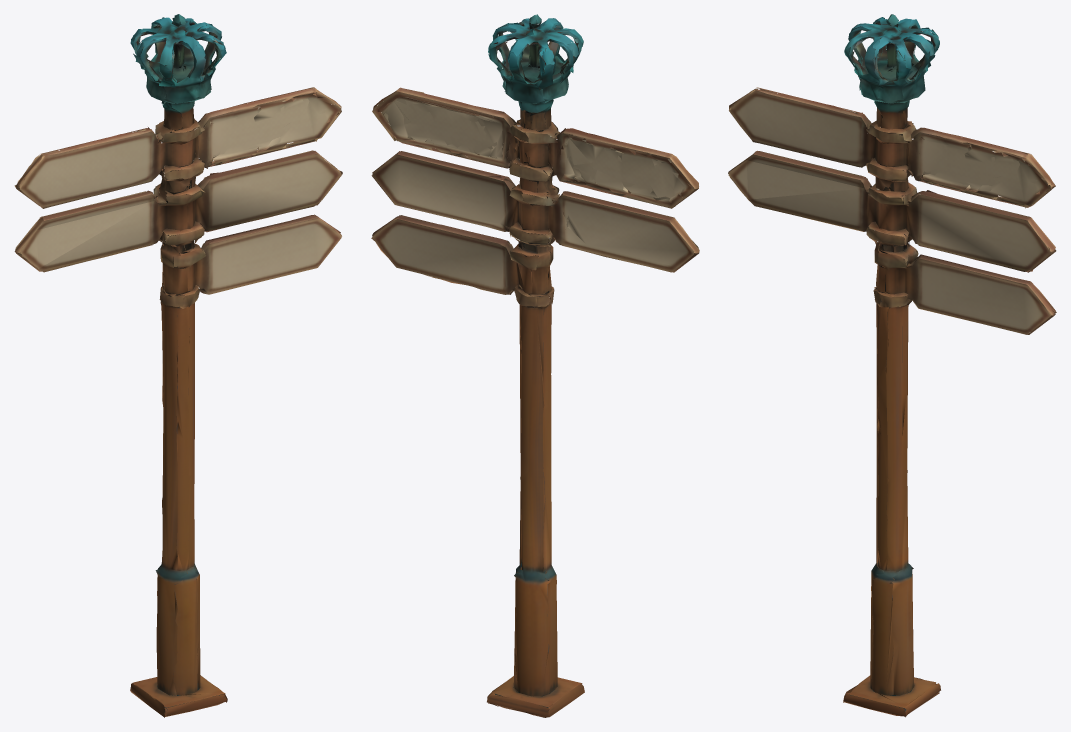
File: unified--detail--wayfinder.glb
3 views of the same model, side by side, from view 1: azimuth 30°, elevation 25°; view 2: azimuth 150°, elevation 25°; view 3: azimuth 330°, elevation 25° (orthographic).
Parts seen in each view (by area): view 1: wayfinder-1; view 2: wayfinder-1; view 3: wayfinder-1.
Part boxes in pixels (bbox=[...]): wayfinder-1: bbox=[14, 14, 342, 717]; wayfinder-1: bbox=[371, 14, 699, 717]; wayfinder-1: bbox=[728, 14, 1056, 717].
Size of the model in its own units: 1.1 by 2.2 by 0.273.
Materials: 1 (1 with a texture image).
